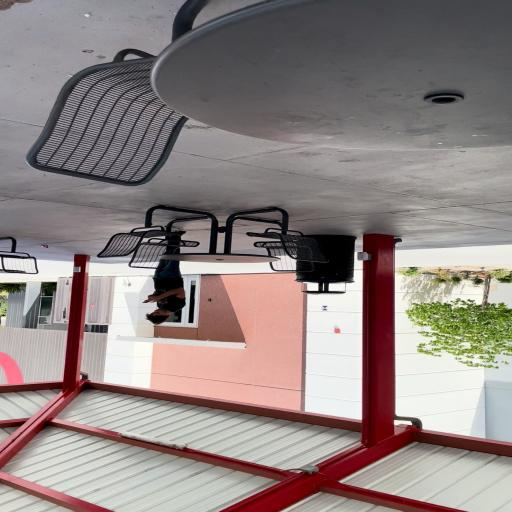target2: (322, 305, 328, 311)
